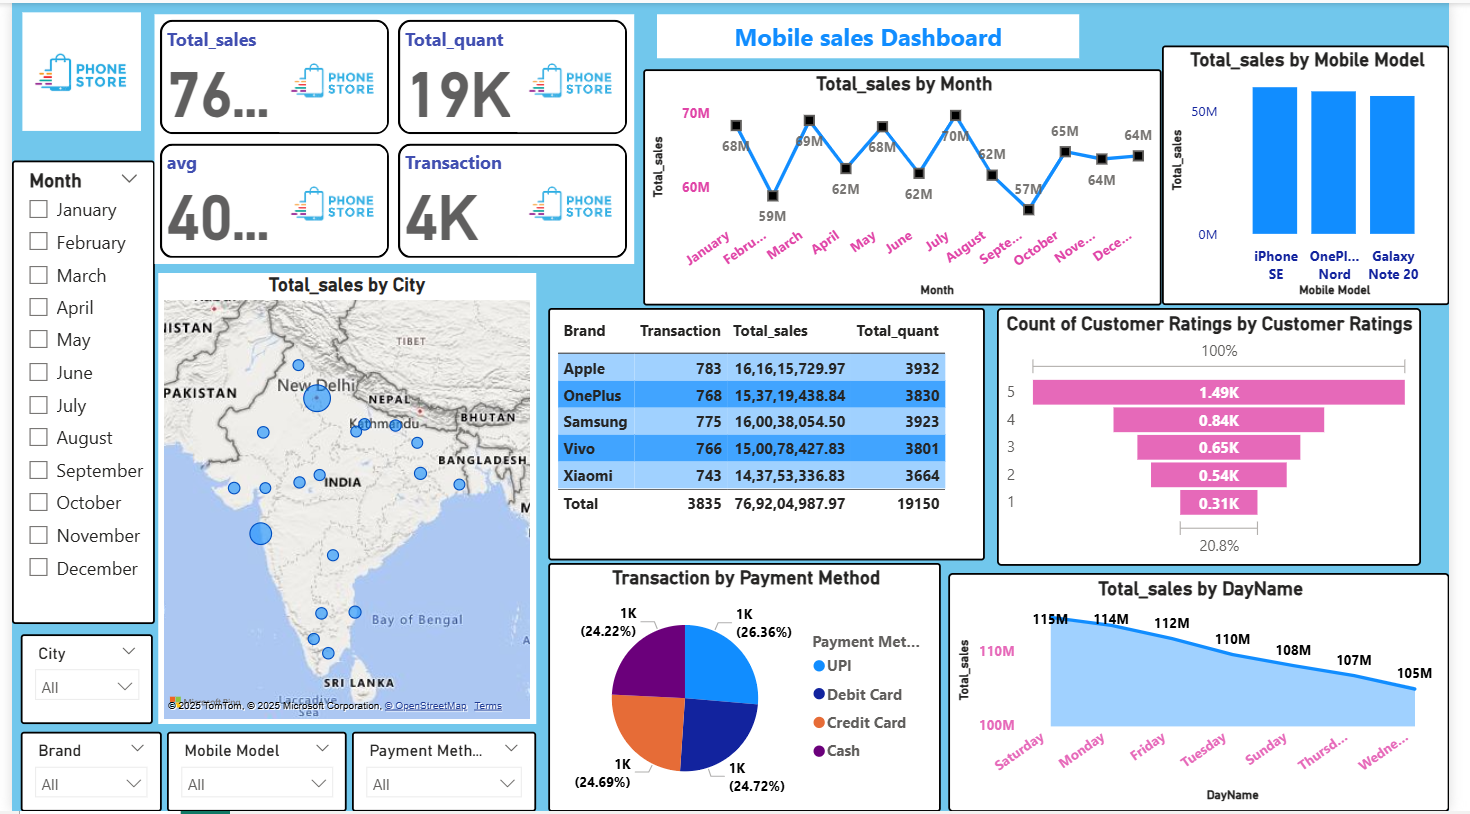

What the dashboard file says about the page in this screenshot:
{"tool":"powerbi","page":{"name":"Mobilesalesdata","canvas":[1280,720],"ordinal":0},"visuals":[{"type":"image","box":[4.5,1.1,115.8,120.2],"z":0},{"type":"slicer","fields":{"Values":["Sales_Data.Date.Variation.Date Hierarchy.Month"]},"box":[0,140.3,126.9,413],"z":1000},{"type":"cardVisual","fields":{"Data":["Sales_Data.Total_sales","Sales_Data.Total_quant","Sales_Data.avg","Sales_Data.Transaction"]},"box":[126.9,10,427.5,222.6],"z":2000},{"type":"slicer","fields":{"Values":["Sales_Data.Mobile Model"]},"box":[138,649,160.3,71.2],"z":3000},{"type":"slicer","fields":{"Values":["Sales_Data.City"]},"box":[7.8,562.2,118,80.1],"z":4000},{"type":"slicer","fields":{"Values":["Sales_Data.Payment Method"]},"box":[302.8,649,163.6,71.2],"z":5000},{"type":"slicer","fields":{"Values":["Sales_Data.Brand"]},"box":[7.8,649,125.8,71.2],"z":6000},{"type":"lineChart","fields":{"Category":["Sales_Data.Date.Variation.Date Hierarchy.Month"],"Y":["Sales_Data.Total_sales"]},"box":[562.2,59,462,210.4],"z":7000},{"type":"tableEx","fields":{"Values":["Sales_Data.Brand","Sales_Data.Transaction","Sales_Data.Total_sales","Sales_Data.Total_quant"]},"box":[477.6,271.6,388.5,224.9],"z":8000},{"type":"funnel","fields":{"Y":["CountNonNull(Sales_Data.Customer Ratings)"],"Category":["Sales_Data.Customer Ratings"]},"box":[877.2,271.6,377.4,229.3],"z":9000},{"type":"pieChart","fields":{"Category":["Sales_Data.Payment Method"],"Y":["Sales_Data.Transaction"]},"box":[477.6,498.7,349.5,221.5],"z":10000},{"type":"areaChart","fields":{"Category":["Sales_Data.DayName"],"Y":["Sales_Data.Total_sales"]},"box":[833.8,507.6,446.4,212.6],"z":11000},{"type":"clusteredColumnChart","fields":{"Category":["Sales_Data.Mobile Model"],"Y":["Sales_Data.Total_sales"]},"box":[1024.1,37.8,256,231.5],"z":12000},{"type":"map","fields":{"Category":["Sales_Data.City"],"Size":["Sales_Data.Total_sales"]},"box":[130.2,240.4,336.2,401.9],"z":13000},{"type":"textbox","box":[574.4,10,376.3,39],"z":13001}]}

Visuals, with their boxes in screenshot pixels (x1, y1, x2, y2), scaled from the page's 1280x720 canvas onto the 1470x814 screenshot:
image: {"left": 5, "top": 1, "right": 138, "bottom": 137}
slicer - Sales_Data.Date.Variation.Date Hierarchy.Month: {"left": 0, "top": 159, "right": 146, "bottom": 626}
cardVisual - Sales_Data.Total_sales x Sales_Data.Total_quant: {"left": 146, "top": 11, "right": 637, "bottom": 263}
slicer - Sales_Data.Mobile Model: {"left": 158, "top": 734, "right": 343, "bottom": 813}
slicer - Sales_Data.City: {"left": 9, "top": 636, "right": 144, "bottom": 726}
slicer - Sales_Data.Payment Method: {"left": 348, "top": 734, "right": 536, "bottom": 813}
slicer - Sales_Data.Brand: {"left": 9, "top": 734, "right": 153, "bottom": 813}
lineChart - Sales_Data.Date.Variation.Date Hierarchy.Month x Sales_Data.Total_sales: {"left": 646, "top": 67, "right": 1176, "bottom": 305}
tableEx - Sales_Data.Brand x Sales_Data.Transaction: {"left": 548, "top": 307, "right": 995, "bottom": 561}
funnel - CountNonNull(Sales_Data.Customer Ratings) x Sales_Data.Customer Ratings: {"left": 1007, "top": 307, "right": 1441, "bottom": 566}
pieChart - Sales_Data.Payment Method x Sales_Data.Transaction: {"left": 548, "top": 564, "right": 950, "bottom": 813}
areaChart - Sales_Data.DayName x Sales_Data.Total_sales: {"left": 958, "top": 574, "right": 1469, "bottom": 813}
clusteredColumnChart - Sales_Data.Mobile Model x Sales_Data.Total_sales: {"left": 1176, "top": 43, "right": 1469, "bottom": 304}
map - Sales_Data.City x Sales_Data.Total_sales: {"left": 150, "top": 272, "right": 536, "bottom": 726}
textbox: {"left": 660, "top": 11, "right": 1092, "bottom": 55}
